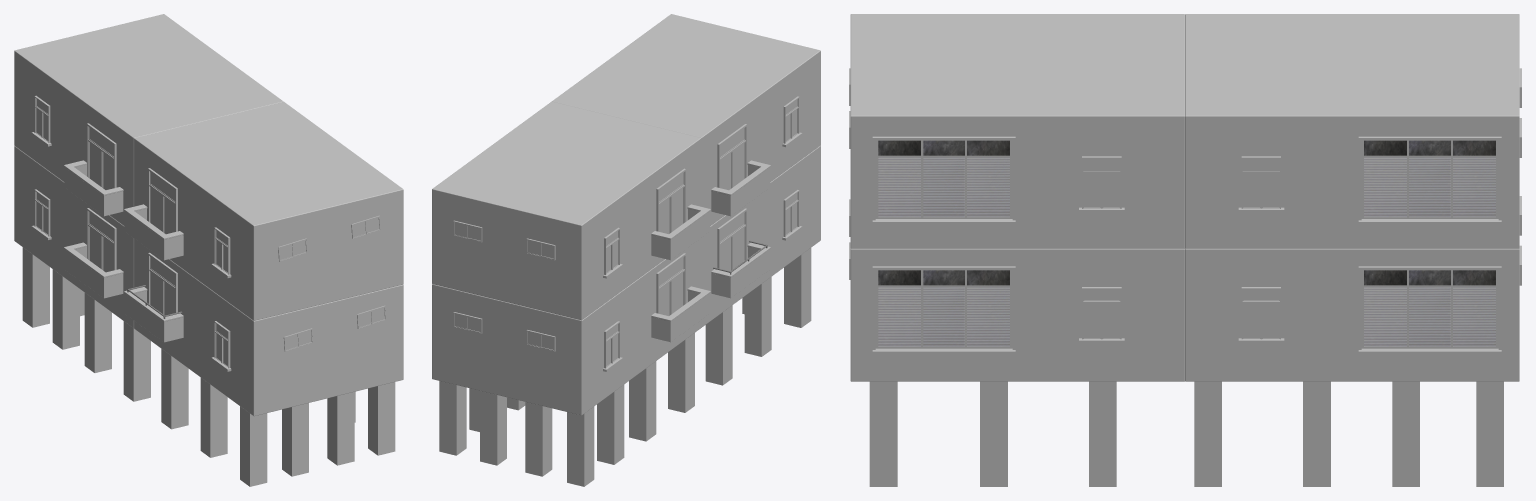
The model's file is Building 3.fbx.
The picture shows the model from 3 angles, left to right: view 1: azimuth 30°, elevation 25°; view 2: azimuth 150°, elevation 25°; view 3: azimuth 270°, elevation 25°; orthographic projection. The views are drawn at different scales.
Parts seen in each view (by area): view 1: Building 2.001, Balcony.001, Cube.004, Cube.003, Column.010, Column.007, Column.005, Column.017, Column.002, Column.018, Column.001, Column.013 (+3 smaller); view 2: Building 2.001, Balcony.001, Cube.004, Cube.003, Column.017, Column.016, Column.014, Cube.001, Column.002, Column.010, Column.005, Column.001 (+4 smaller); view 3: Building 2.001, Window 2, Cube, Column.013, Column.006, Column.004, Column.003, Column.000, Column.019, Column.014.
Boxes of the visible parts, left/top/right/bottom form: Building 2.001: left=14, top=14, right=403, bottom=416; Balcony.001: left=63, top=160, right=183, bottom=342; Cube.004: left=87, top=123, right=177, bottom=315; Cube.003: left=31, top=95, right=231, bottom=371; Column.010: left=240, top=406, right=267, bottom=486; Column.007: left=123, top=321, right=150, bottom=401; Column.005: left=52, top=269, right=79, bottom=349; Column.017: left=22, top=247, right=49, bottom=327; Column.002: left=84, top=293, right=111, bottom=372; Column.018: left=161, top=349, right=188, bottom=429; Column.001: left=200, top=378, right=227, bottom=457; Column.013: left=368, top=382, right=395, bottom=455; Building 2.001: left=432, top=14, right=820, bottom=415; Balcony.001: left=651, top=160, right=770, bottom=342; Cube.004: left=656, top=124, right=747, bottom=315; Cube.003: left=603, top=96, right=802, bottom=371; Column.017: left=567, top=406, right=594, bottom=486; Column.016: left=525, top=402, right=552, bottom=476; Column.014: left=439, top=381, right=466, bottom=455; Cube.001: left=453, top=220, right=555, bottom=351; Column.002: left=629, top=361, right=656, bottom=441; Column.010: left=784, top=248, right=811, bottom=327; Column.005: left=597, top=385, right=624, bottom=464; Column.001: left=744, top=277, right=771, bottom=356; Building 2.001: left=850, top=14, right=1519, bottom=381; Window 2: left=872, top=136, right=1501, bottom=355; Cube: left=1079, top=156, right=1284, bottom=343; Column.013: left=869, top=381, right=897, bottom=486; Column.006: left=1194, top=381, right=1221, bottom=486; Column.004: left=1392, top=381, right=1419, bottom=486; Column.003: left=1303, top=381, right=1330, bottom=486; Column.000: left=980, top=381, right=1007, bottom=486; Column.019: left=1089, top=381, right=1116, bottom=486; Column.014: left=1476, top=381, right=1503, bottom=486.
Size of the model in its own units: 464 by 679 by 1112.
